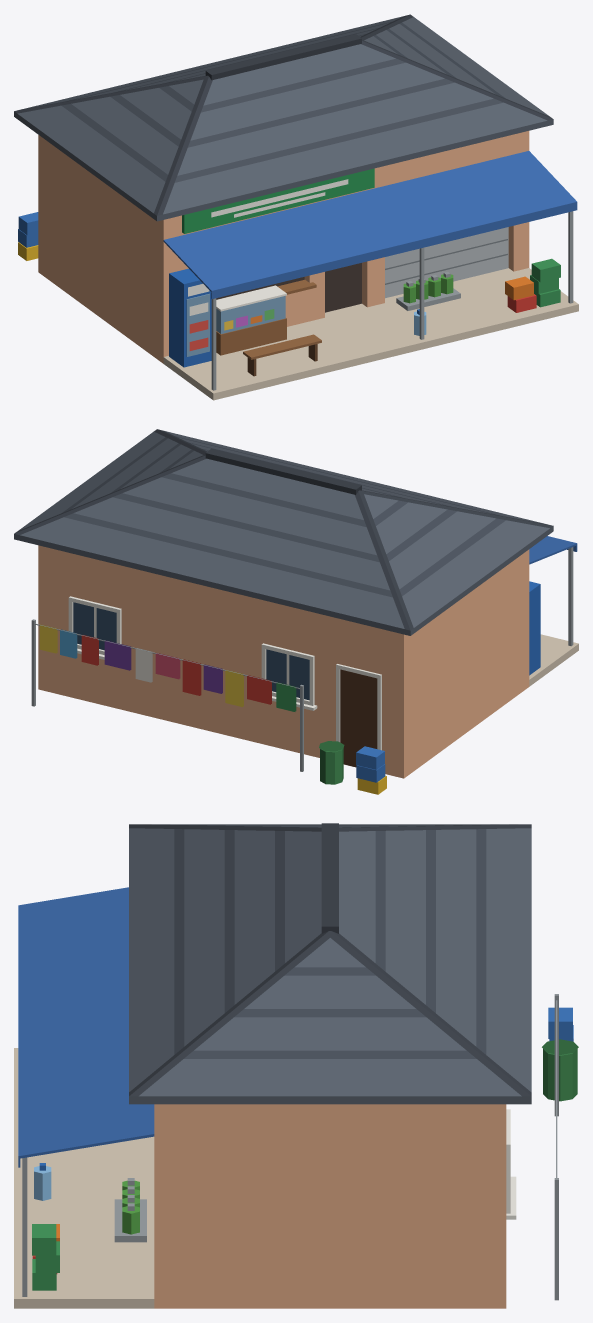
The model's file is warung_06.glb.
3 renders of one model, top to bottom at view 1: azimuth 30°, elevation 25°; view 2: azimuth 150°, elevation 25°; view 3: azimuth 270°, elevation 25°, orthographic. The views are drawn at different scales.
Visible parts, largest first — view 1: warung_06; view 2: warung_06; view 3: warung_06.
Boxes of the visible parts, <box> form: warung_06: <box>14,14,578,400</box>; warung_06: <box>14,429,578,794</box>; warung_06: <box>14,823,578,1308</box>.
Bounding box in the file's own units: 8.96 × 4.73 × 7.86.
